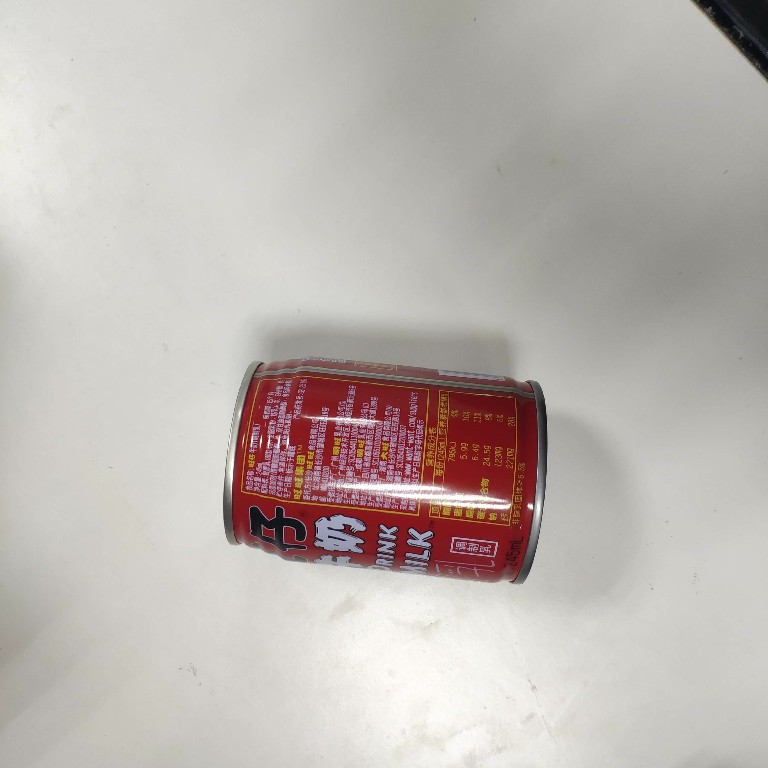can: (219, 355, 554, 591)
